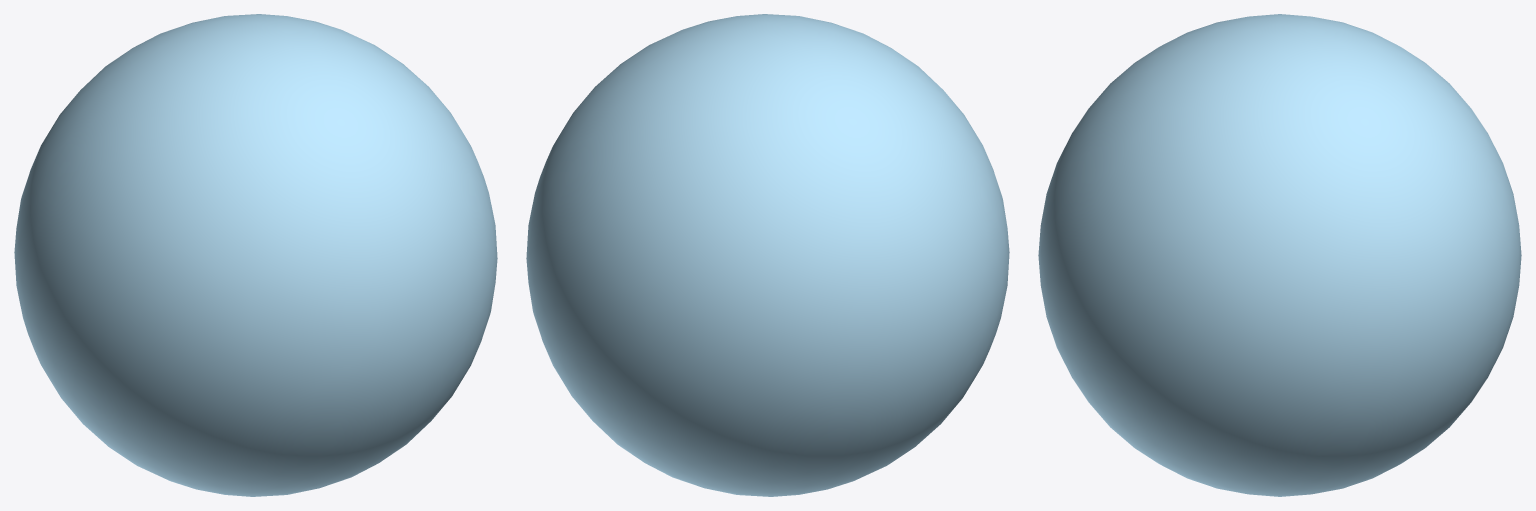
3 renders of one model, left to right at view 1: azimuth 30°, elevation 25°; view 2: azimuth 150°, elevation 25°; view 3: azimuth 270°, elevation 25°, orthographic.
Parts seen in each view (by area): view 1: world; view 2: world; view 3: world.
Part boxes in pixels (bbox=[...]): world: bbox=[14, 14, 497, 496]; world: bbox=[526, 14, 1009, 496]; world: bbox=[1038, 14, 1521, 496].
Size of the model in its own units: 2 by 2 by 2.
